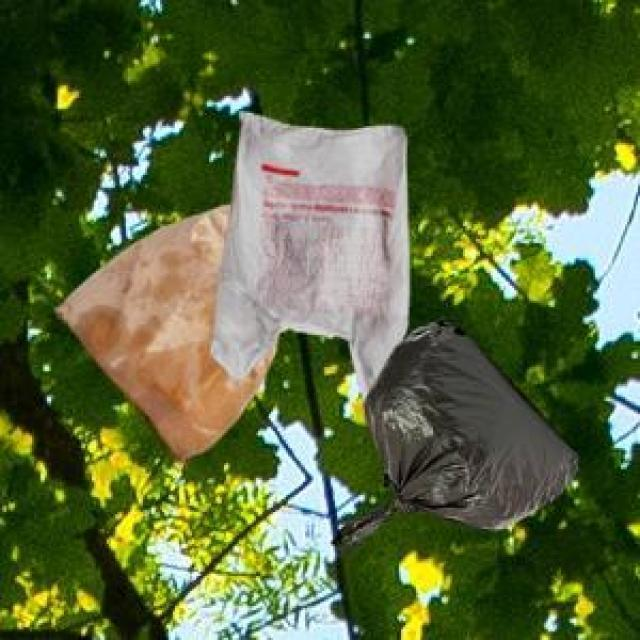miscellaneous trash: (326, 314, 574, 546)
paper: (51, 201, 272, 461)
